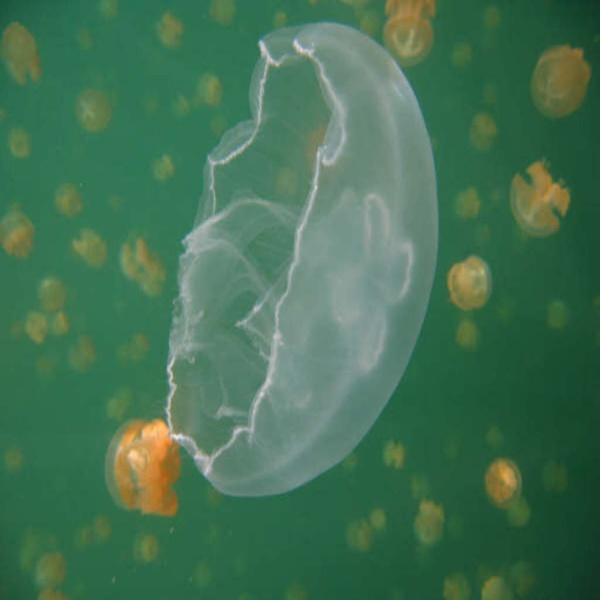Jellyfish: (155, 17, 439, 495), (104, 414, 186, 525), (504, 154, 574, 238), (530, 42, 589, 120), (381, 0, 437, 69), (446, 255, 493, 314), (488, 454, 521, 513)
